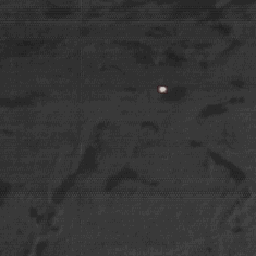Target: (157, 86, 167, 94)
